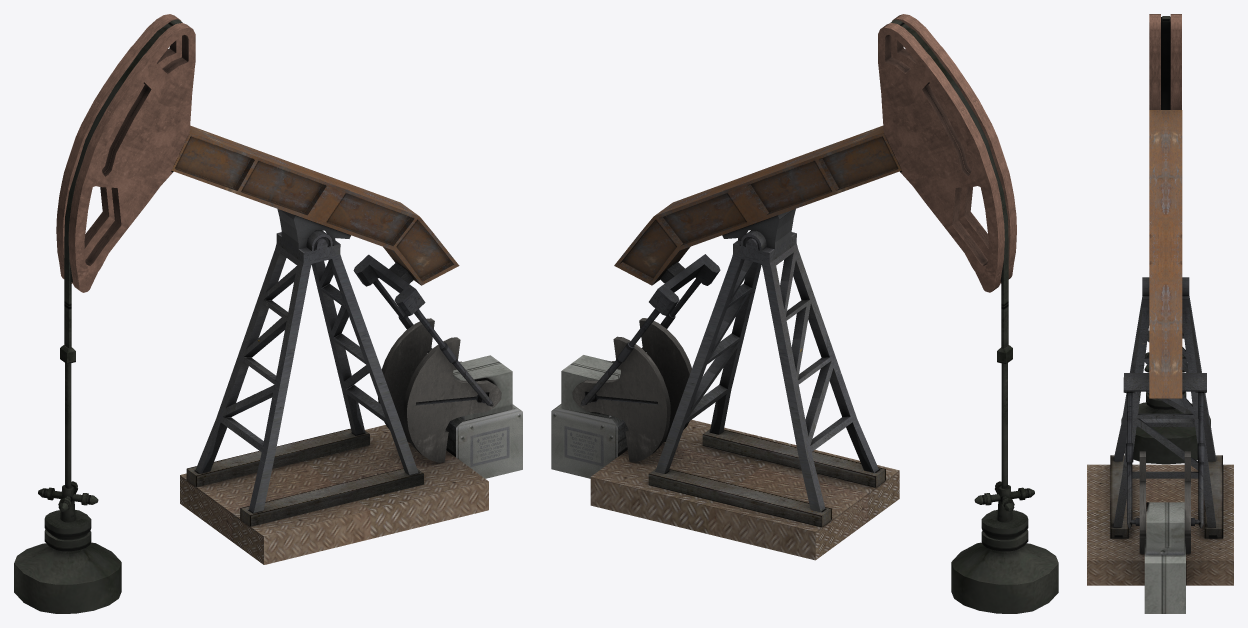
The model's file is oil_pump_jack (2).glb.
3 renders of one model, left to right at view 1: azimuth 30°, elevation 25°; view 2: azimuth 150°, elevation 25°; view 3: azimuth 270°, elevation 25°, orthographic. The views are drawn at different scales.
Visible parts, largest first — view 1: Oil Pump; view 2: Oil Pump; view 3: Oil Pump.
Part boxes in pixels (x1,y1,x2,y2): Oil Pump: (14, 14, 522, 613); Oil Pump: (551, 14, 1058, 613); Oil Pump: (1087, 14, 1233, 613).
Bounding box in the file's own units: 4.43 × 4.74 × 1.33.
1 material, 1 textured.
